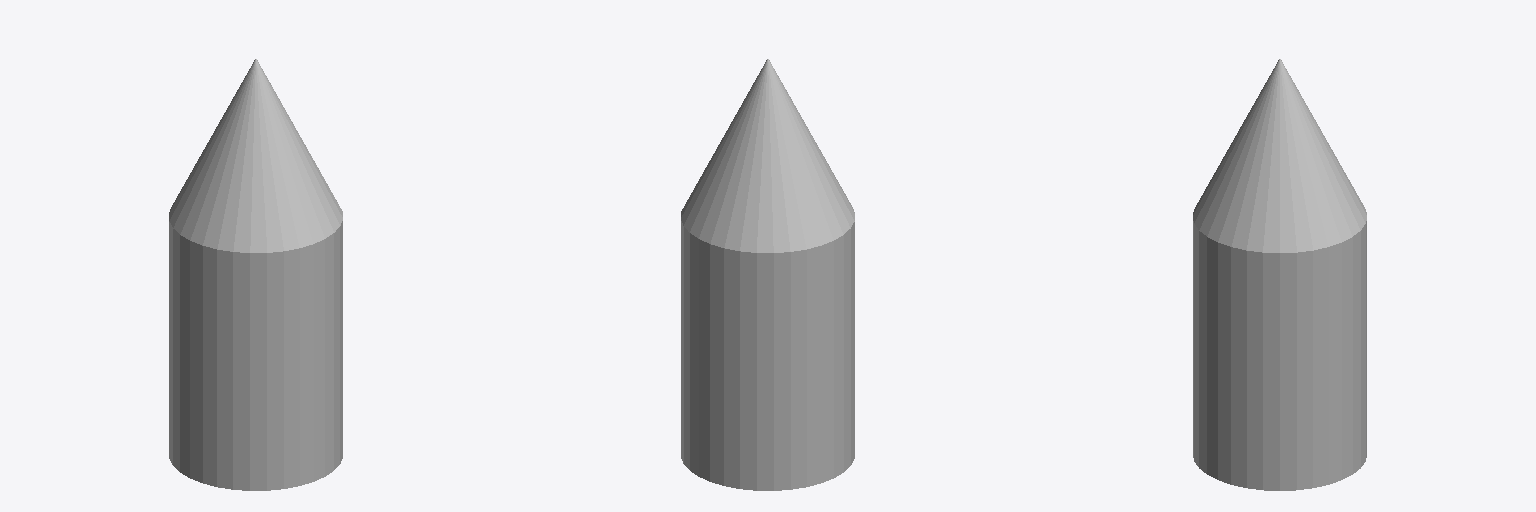
The model's file is bullet.obj.
The picture shows the model from 3 angles: view 1: azimuth 30°, elevation 25°; view 2: azimuth 150°, elevation 25°; view 3: azimuth 270°, elevation 25°; orthographic projection.
Parts seen in each view (by area): view 1: Cylinder, Cone; view 2: Cylinder, Cone; view 3: Cylinder, Cone.
Part boxes in pixels (bbox=[...]): Cylinder: bbox=[169, 221, 342, 490]; Cone: bbox=[169, 59, 342, 252]; Cylinder: bbox=[681, 221, 854, 490]; Cone: bbox=[681, 59, 854, 252]; Cylinder: bbox=[1193, 221, 1366, 490]; Cone: bbox=[1193, 59, 1366, 252].
Size of the model in its own units: 0.4 by 1 by 0.4.